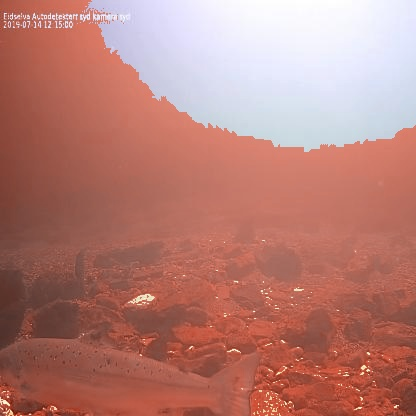salmon: (0, 322, 267, 416)
